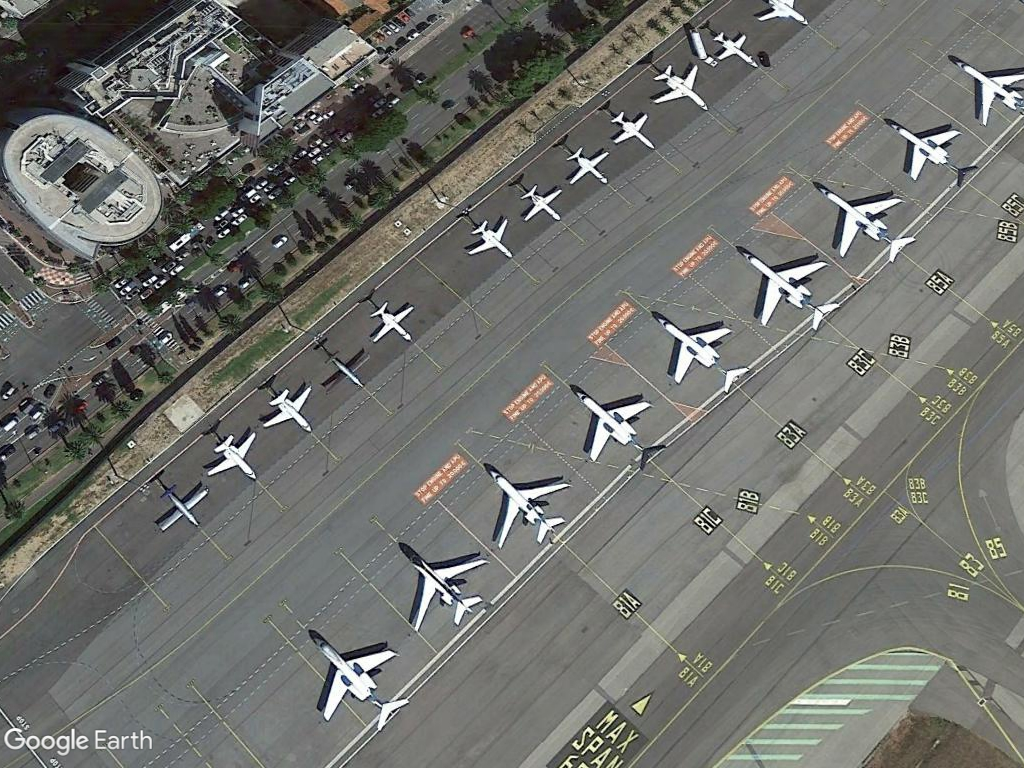chartered: (304, 625, 412, 733), (735, 241, 842, 332), (813, 178, 919, 266), (396, 538, 492, 635), (570, 382, 670, 473), (481, 460, 576, 552), (650, 309, 751, 394), (884, 120, 977, 184), (200, 425, 265, 487), (259, 384, 319, 437), (363, 300, 422, 347), (463, 217, 520, 263), (563, 144, 615, 188), (520, 182, 567, 227)
